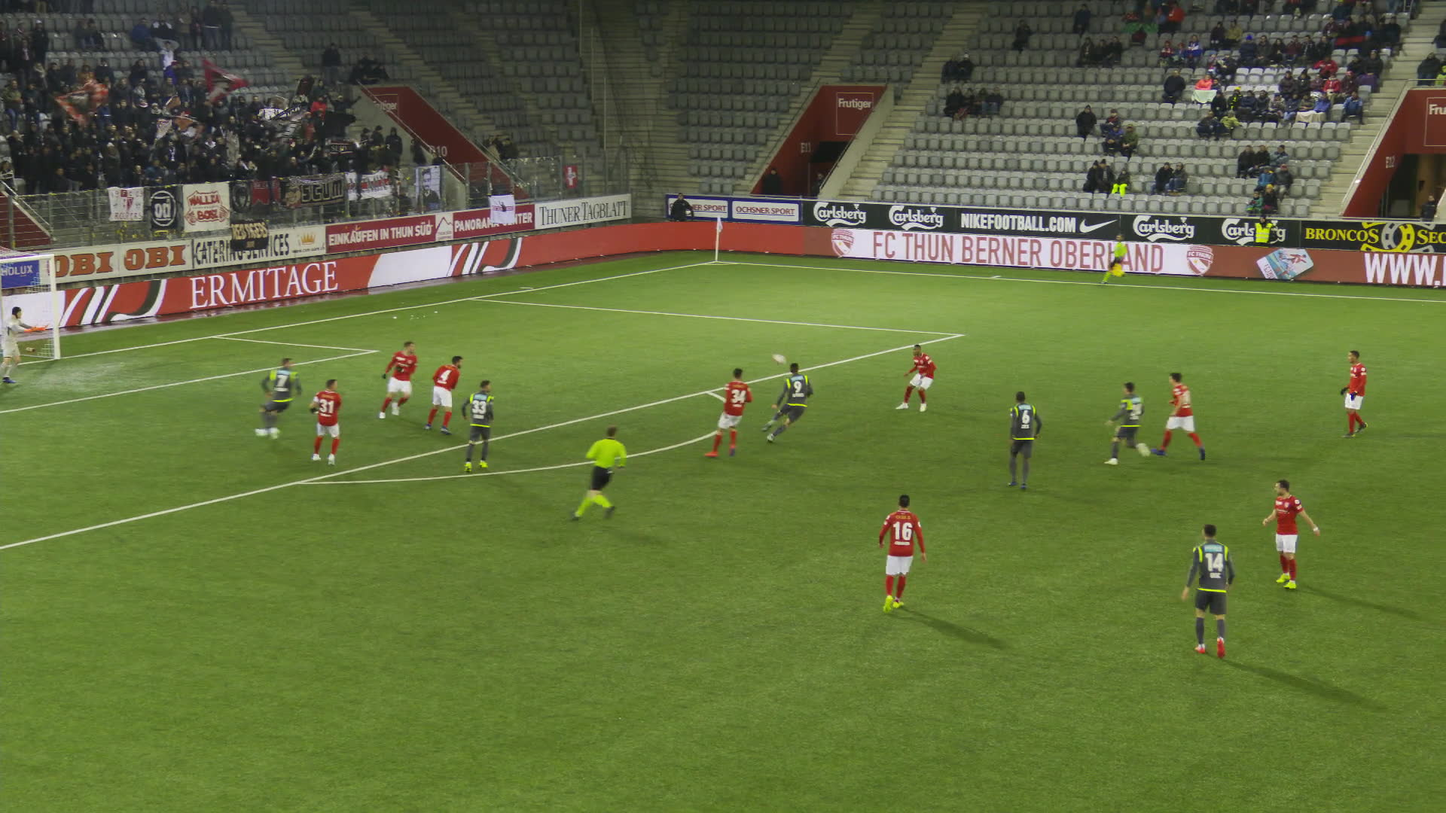ball: (765, 352, 782, 364)
player: (1180, 519, 1239, 664), (1255, 472, 1322, 592), (873, 490, 928, 616), (1150, 367, 1211, 465), (1100, 378, 1161, 467), (706, 365, 755, 464), (761, 361, 817, 447), (374, 336, 425, 426), (260, 355, 311, 441), (0, 304, 51, 389), (1003, 390, 1045, 492), (459, 378, 502, 474), (422, 352, 469, 436), (306, 376, 349, 467), (1333, 348, 1373, 439), (894, 342, 939, 416)
referee: (573, 420, 636, 528), (1100, 232, 1134, 286)
